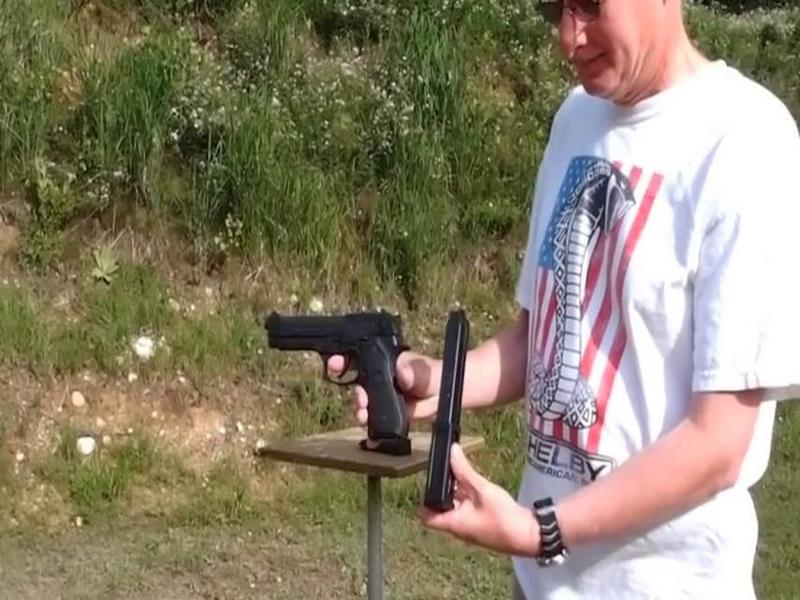Pistola: (247, 294, 432, 462)
